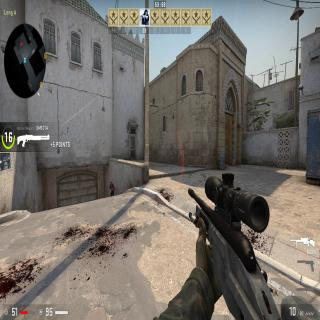T-Body: (109, 180, 115, 197)
T-Head: (110, 180, 113, 186)
